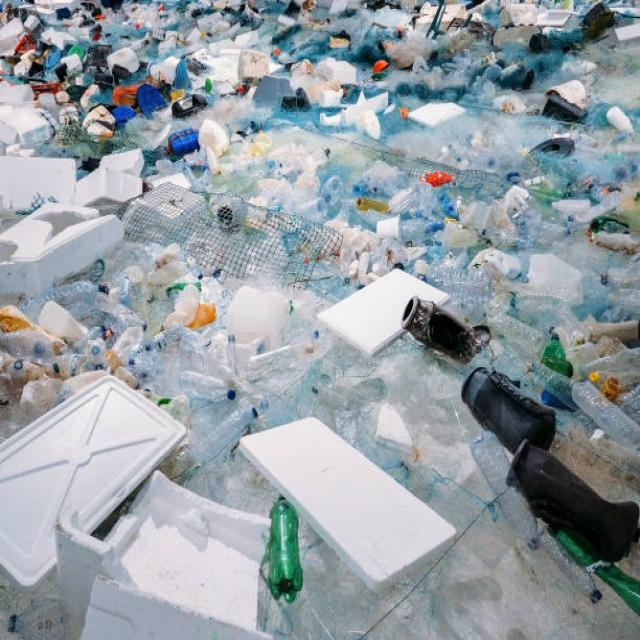metal: (398, 292, 640, 536)
plastic: (59, 24, 626, 187), (25, 412, 382, 626)
